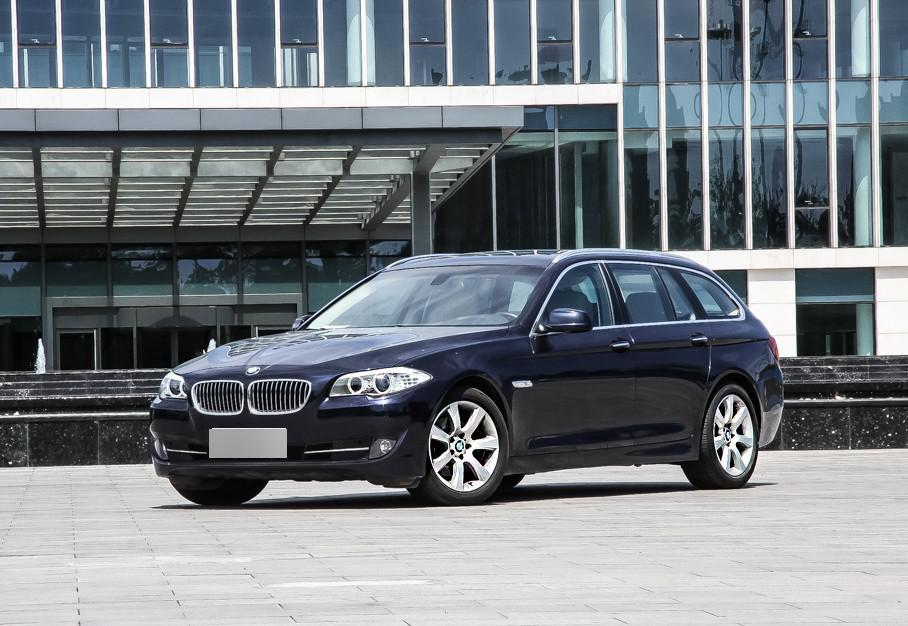Wagon: (146, 247, 782, 504)
